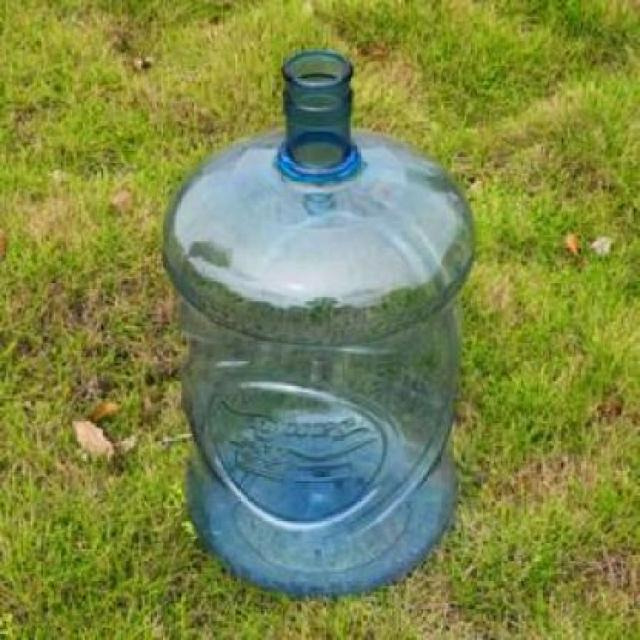coolerbottle: (154, 45, 486, 600)
